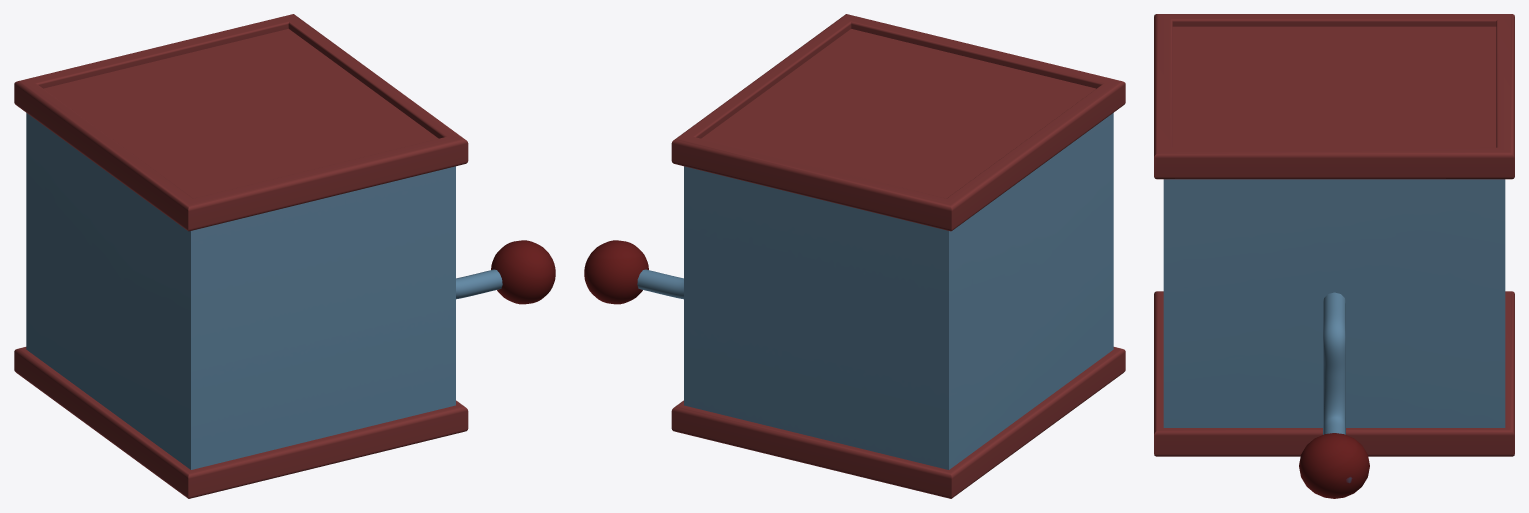
The model's file is SM_Jack_in_the_box.fbx.
3 renders of one model, left to right at view 1: azimuth 30°, elevation 25°; view 2: azimuth 150°, elevation 25°; view 3: azimuth 270°, elevation 25°, orthographic. The views are drawn at different scales.
Visible parts, largest first — view 1: Jack_in_the_box; view 2: Jack_in_the_box; view 3: Jack_in_the_box.
Part boxes in pixels (left/top/right/bottom): Jack_in_the_box: left=14, top=14, right=555, bottom=498; Jack_in_the_box: left=584, top=14, right=1125, bottom=498; Jack_in_the_box: left=1154, top=14, right=1514, bottom=498.
Bounding box in the file's own units: 49.94 × 31.09 × 33.46.
